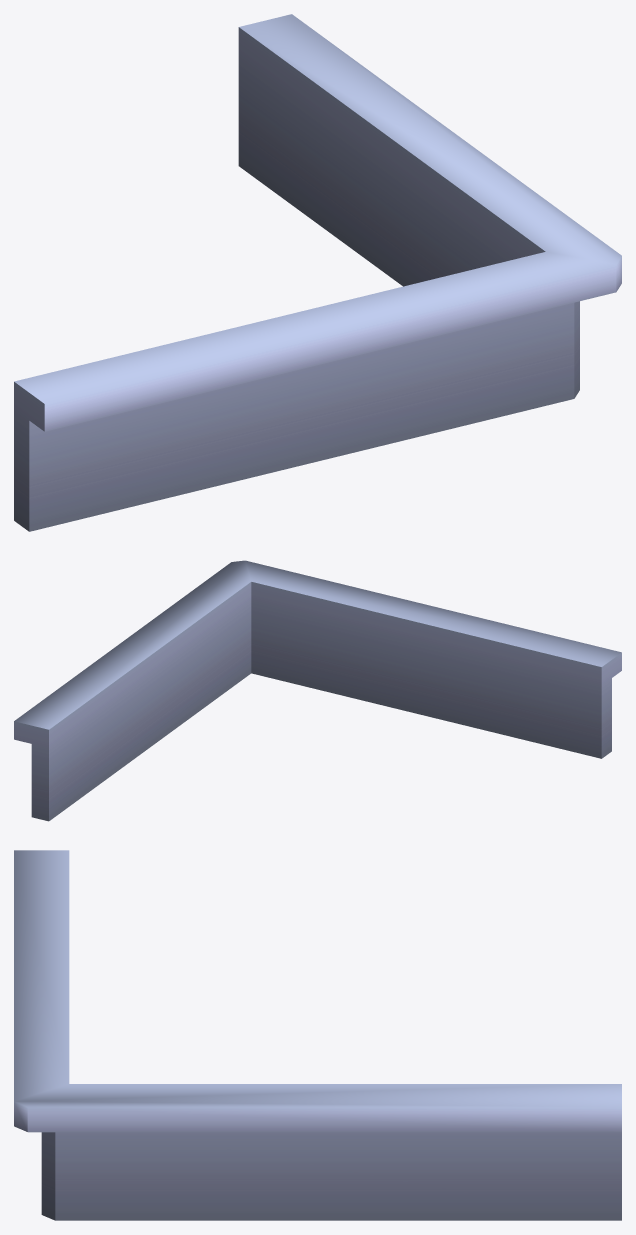
Rendered from kenney-building-border-high-corner.glb.
The picture shows the model from 3 angles, top to bottom: view 1: azimuth 30°, elevation 25°; view 2: azimuth 150°, elevation 25°; view 3: azimuth 270°, elevation 25°; orthographic projection. The views are drawn at different scales.
Visible parts, largest first — view 1: border-high-corner; view 2: border-high-corner; view 3: border-high-corner.
Part boxes in pixels (x1,y1,x2,y2): border-high-corner: (14,14,621,531); border-high-corner: (14,560,621,821); border-high-corner: (14,850,621,1220).
Size of the model in its own units: 2.2 by 0.5001 by 2.2.
1 material, 1 textured.
